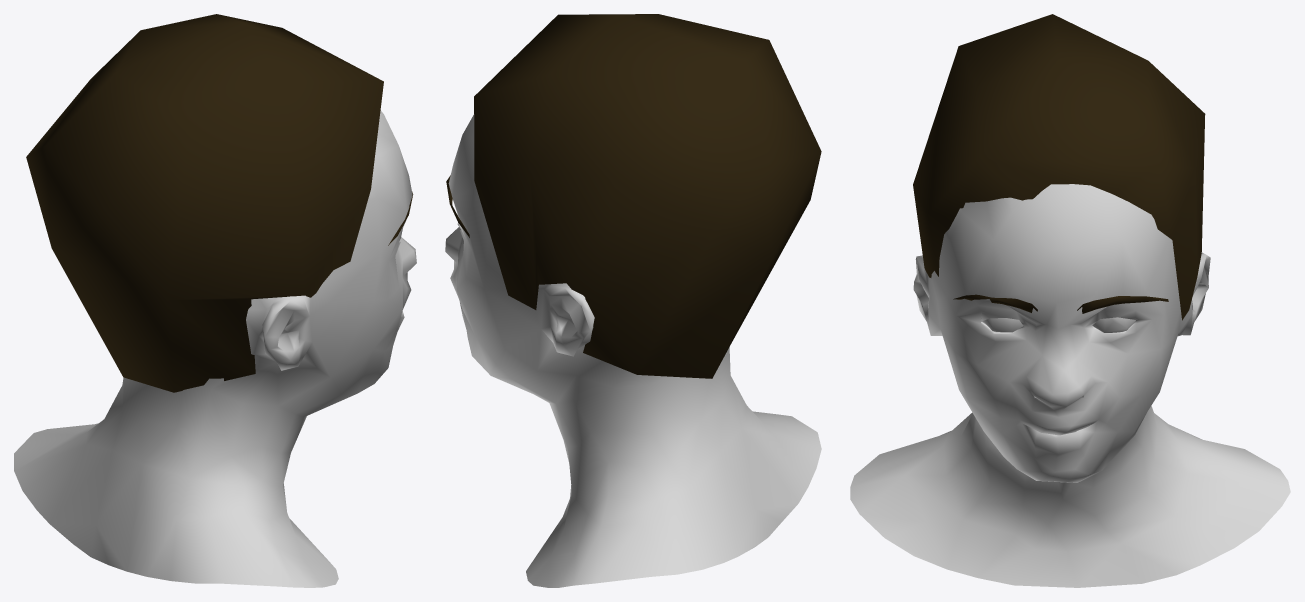
Rendered from child-face.dae.
3 renders of one model, left to right at view 1: azimuth 30°, elevation 25°; view 2: azimuth 150°, elevation 25°; view 3: azimuth 270°, elevation 25°, orthographic. The views are drawn at different scales.
Parts seen in each view (by area): view 1: face; view 2: face; view 3: face.
Part boxes in pixels (bbox=[...]): face: bbox=[14, 14, 416, 587]; face: bbox=[445, 14, 821, 587]; face: bbox=[850, 14, 1290, 587].
Size of the model in its own units: 0.2098 by 0.2398 by 0.3058.
